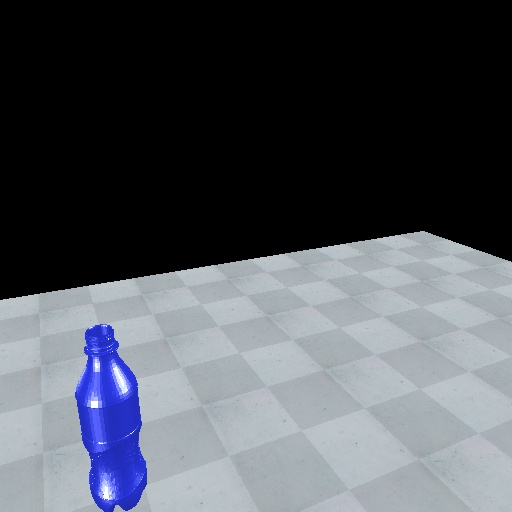bottle: (72, 321, 152, 512)
